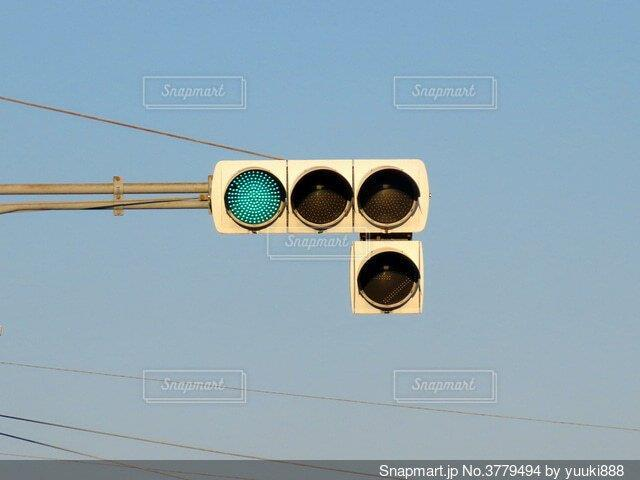cars: (214, 159, 430, 231)
